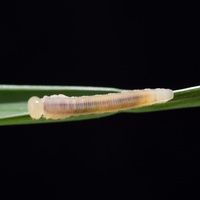insect: (28, 89, 173, 119)
